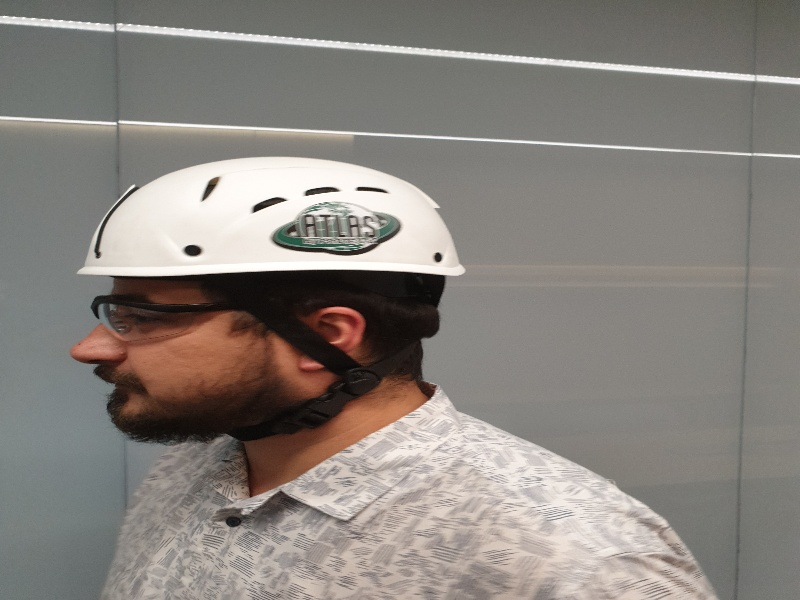Baret: (75, 158, 463, 277)
Gozluk: (91, 296, 275, 339)
